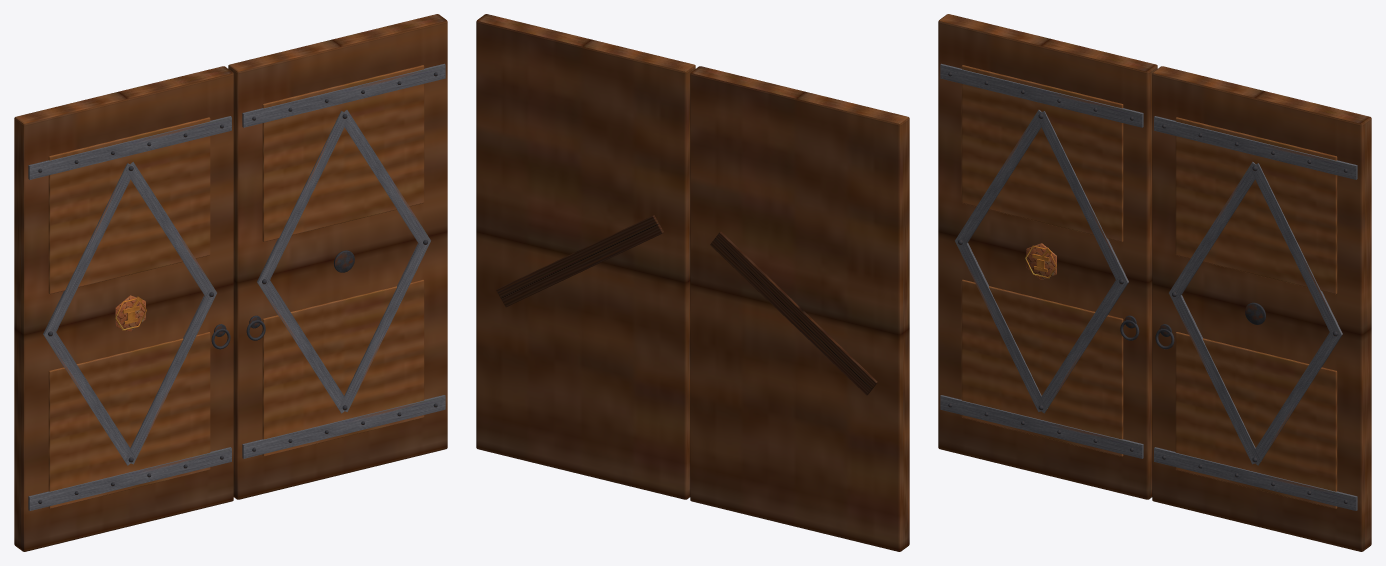
Rendered from foundry_door.glb.
3 views of the same model, side by side, from view 1: azimuth 30°, elevation 25°; view 2: azimuth 150°, elevation 25°; view 3: azimuth 330°, elevation 25° (orthographic).
Parts seen in each view (by area): view 1: door_leaf_L, door_leaf_R, door_R_carved_panel_1, door_L_carved_panel_1, door_L_carved_panel_0, door_R_carved_panel_0, door_L_steel_straps, door_R_steel_straps, door_maker_mark; view 2: door_leaf_L, door_leaf_R, door_L_back_brace, door_R_back_brace; view 3: door_leaf_R, door_leaf_L, door_L_carved_panel_1, door_R_carved_panel_1, door_R_carved_panel_0, door_L_carved_panel_0, door_L_steel_straps, door_R_steel_straps, door_maker_mark.
Boxes of the visible parts, x1,y1,x2,y2 form: door_leaf_L: [14, 66, 233, 551]; door_leaf_R: [228, 14, 447, 499]; door_R_carved_panel_1: [262, 65, 424, 241]; door_L_carved_panel_1: [48, 117, 210, 294]; door_L_carved_panel_0: [48, 332, 210, 508]; door_R_carved_panel_0: [262, 279, 424, 456]; door_L_steel_straps: [28, 116, 231, 510]; door_R_steel_straps: [242, 63, 445, 458]; door_maker_mark: [115, 295, 145, 331]; door_leaf_L: [690, 66, 909, 551]; door_leaf_R: [476, 14, 695, 499]; door_L_back_brace: [710, 231, 877, 395]; door_R_back_brace: [496, 215, 663, 307]; door_leaf_R: [1152, 66, 1371, 551]; door_leaf_L: [938, 14, 1157, 499]; door_L_carved_panel_1: [961, 65, 1123, 241]; door_R_carved_panel_1: [1175, 117, 1337, 294]; door_R_carved_panel_0: [1175, 332, 1337, 508]; door_L_carved_panel_0: [961, 279, 1123, 456]; door_L_steel_straps: [940, 63, 1143, 458]; door_R_steel_straps: [1154, 116, 1357, 510]; door_maker_mark: [1026, 243, 1056, 279].
Bounding box in the file's own units: 2.9 × 2.8 × 0.1871.
Materials: 7 (7 with a texture image).
